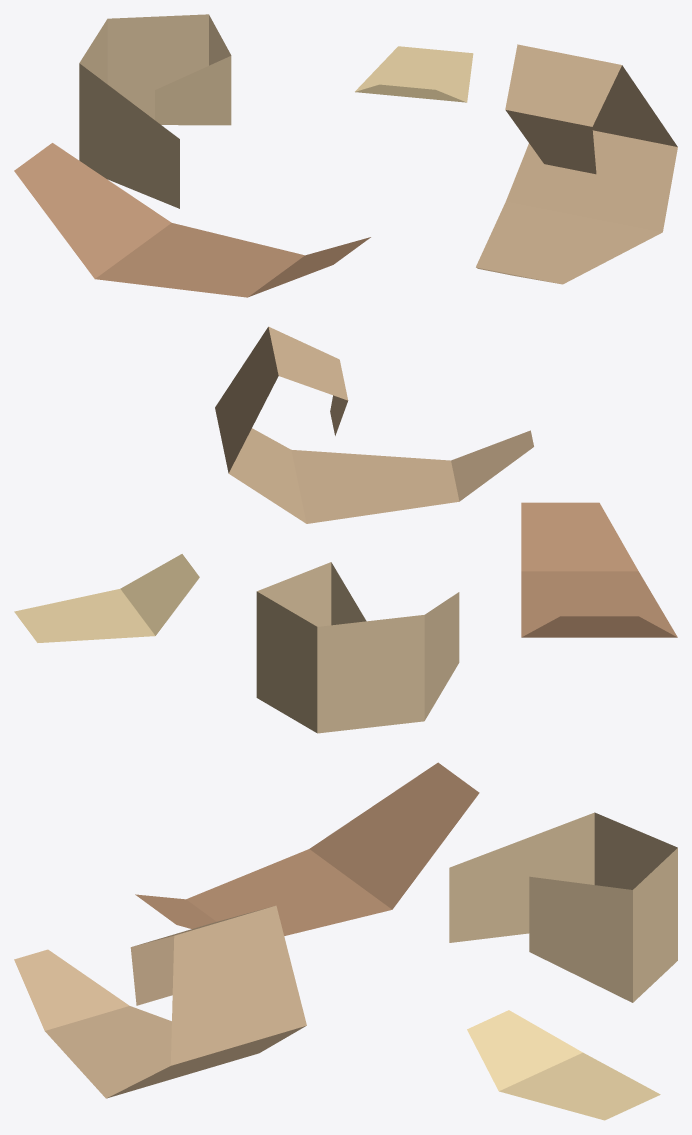
File: woodShavings.fbx
3 renders of one model, top to bottom at view 1: azimuth 30°, elevation 25°; view 2: azimuth 150°, elevation 25°; view 3: azimuth 270°, elevation 25°, orthographic. The views are drawn at different scales.
Parts seen in each view (by area): view 1: shaving2, shaving4, shaving1, shaving3; view 2: shaving4, shaving2, shaving1, shaving3; view 3: shaving2, shaving4, shaving1, shaving3.
Boxes of the visible parts, left/top/right/bottom form: shaving2: left=476, top=44, right=677, bottom=284; shaving4: left=79, top=14, right=231, bottom=208; shaving1: left=14, top=143, right=370, bottom=297; shaving3: left=355, top=46, right=473, bottom=102; shaving4: left=256, top=562, right=459, bottom=733; shaving2: left=215, top=326, right=533, bottom=523; shaving1: left=521, top=502, right=677, bottom=637; shaving3: left=14, top=554, right=199, bottom=642; shaving2: left=14, top=905, right=306, bottom=1098; shaving4: left=449, top=812, right=677, bottom=1002; shaving1: left=135, top=762, right=479, bottom=935; shaving3: left=467, top=1010, right=660, bottom=1120.
Size of the model in its own units: 50.61 by 14.36 by 49.89.
Materials: 1 (1 with a texture image).
